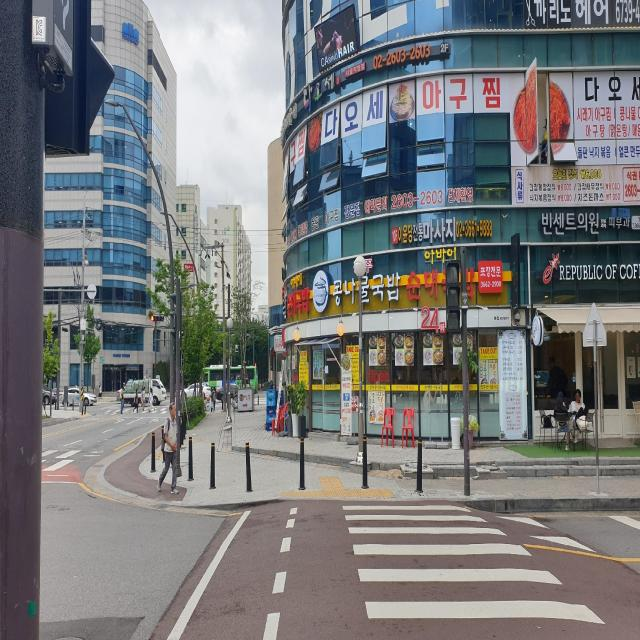횡단보도: (340, 502, 607, 628), (41, 436, 103, 478)
